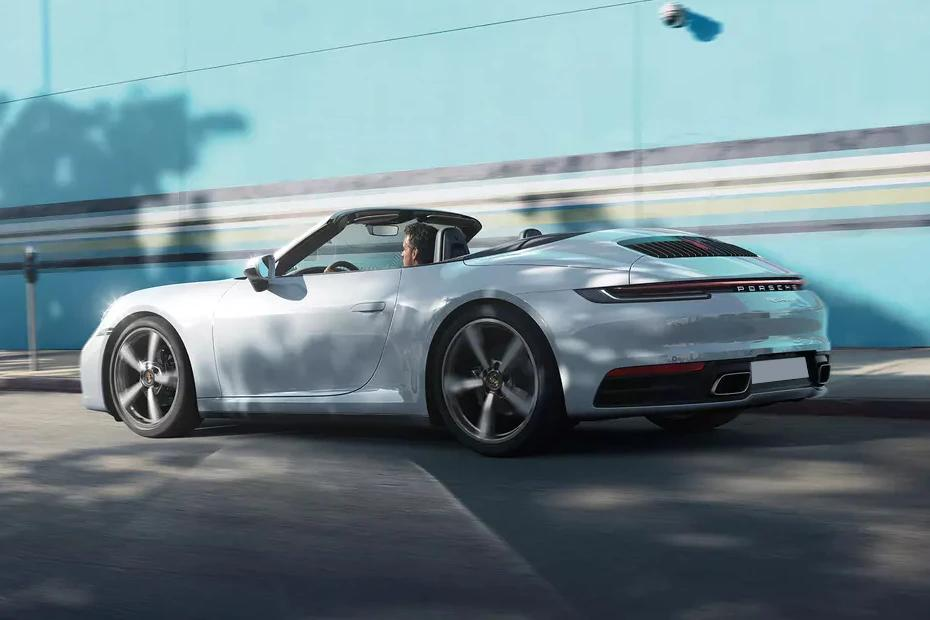porsche: (730, 281, 804, 294)
